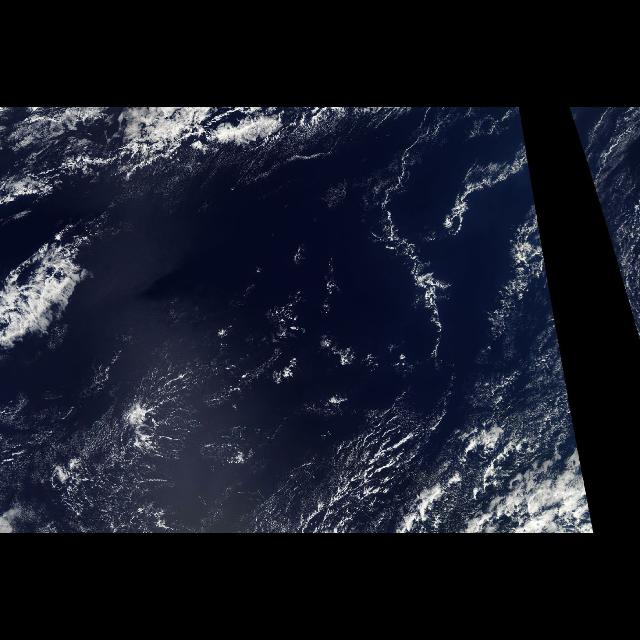Gravel: (36, 368, 220, 528), (271, 407, 471, 531)
Sugar: (68, 114, 570, 534), (570, 115, 640, 342)
